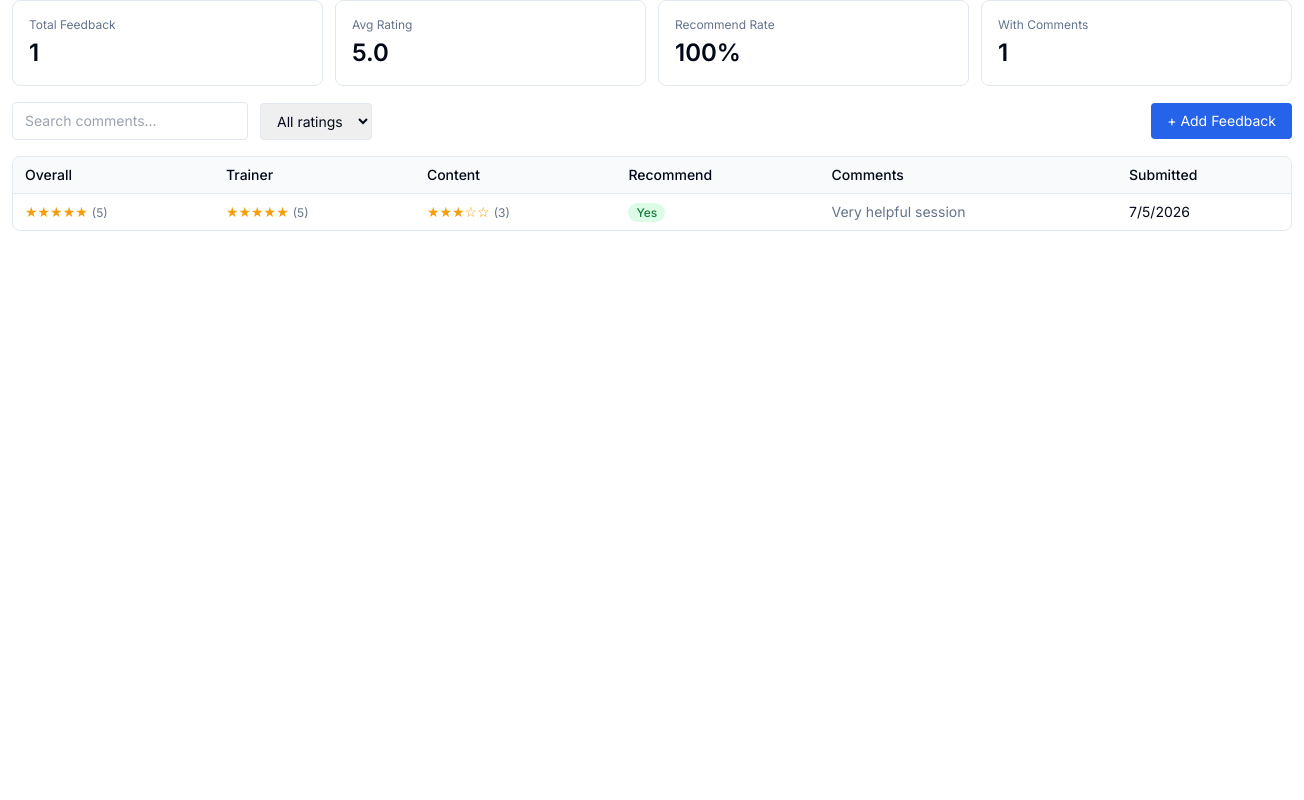
Scenario: FeedbackCenter — drawer view mode › drawer shows overall rating via rating-stars
The image size is (1304, 800).
Click the row with test id "feedback-row".
click(652, 212)  # box [13,194,1291,230]
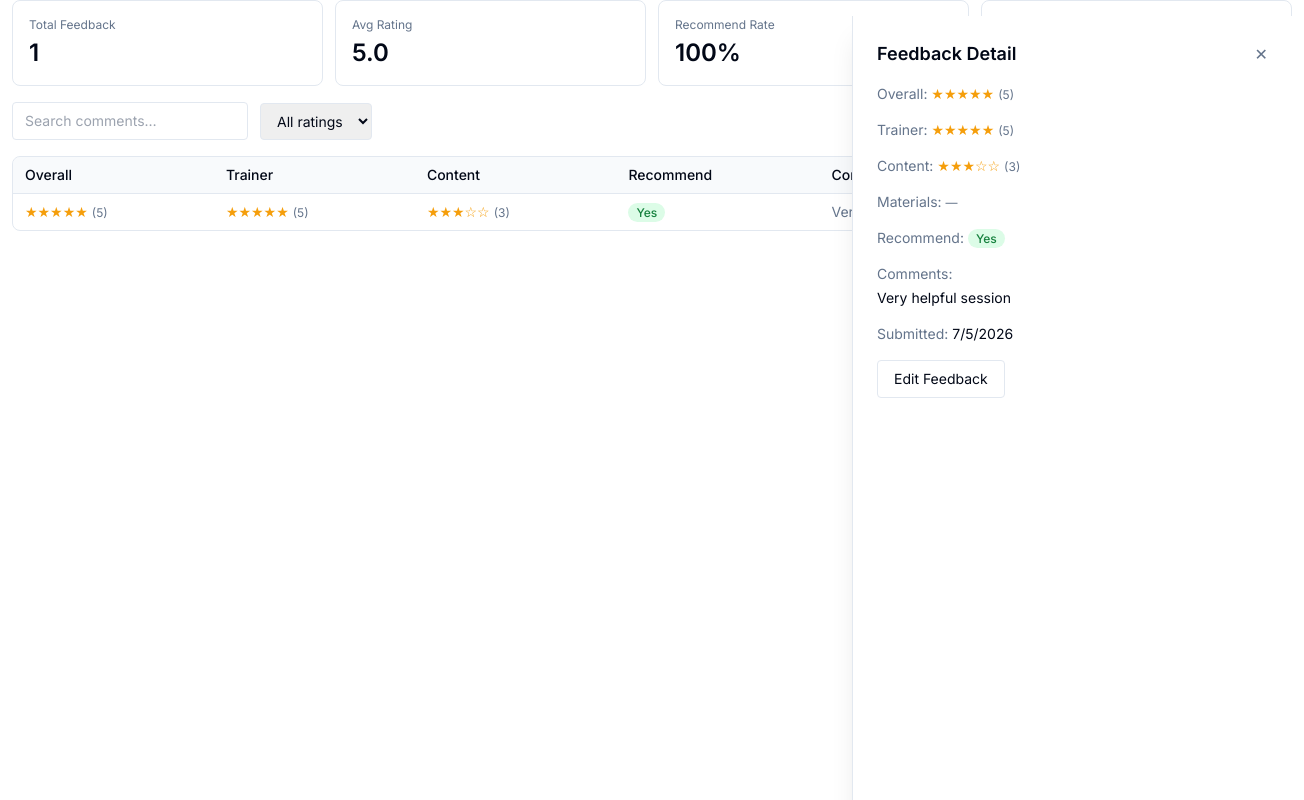
Check: the element with test id "drawer-overall-rating" is shown, box [931,85,1014,102]
